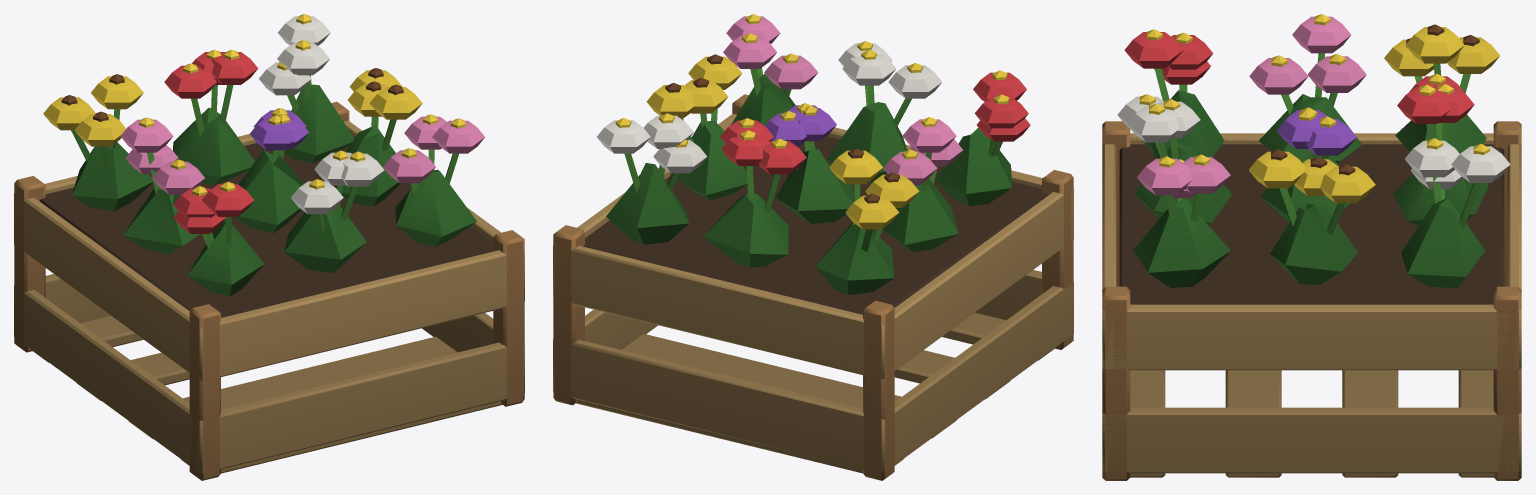
File: 36_cagette_fleurs.fbx
3 views of the same model, side by side, from view 1: azimuth 30°, elevation 25°; view 2: azimuth 150°, elevation 25°; view 3: azimuth 270°, elevation 25° (orthographic). The views are drawn at different scales.
Visible parts, largest first — view 1: Cagette, Fleurs; view 2: Cagette, Fleurs; view 3: Cagette, Fleurs.
Boxes of the visible parts, x1=… form: Cagette: x1=14, y1=101, x2=524, y2=480; Fleurs: x1=43, y1=14, x2=484, y2=296; Cagette: x1=553, y1=94, x2=1073, y2=480; Fleurs: x1=597, y1=14, x2=1030, y2=294; Cagette: x1=1102, y1=121, x2=1521, y2=480; Fleurs: x1=1117, y1=14, x2=1510, y2=287.
Size of the model in its own units: 0.672 by 0.56 by 0.672.
Materials: 1 (1 with a texture image).
